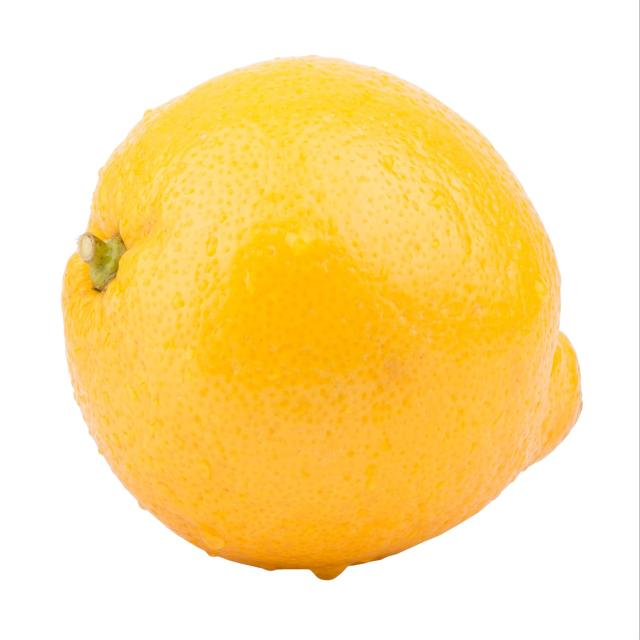lemon: (53, 51, 595, 585)
